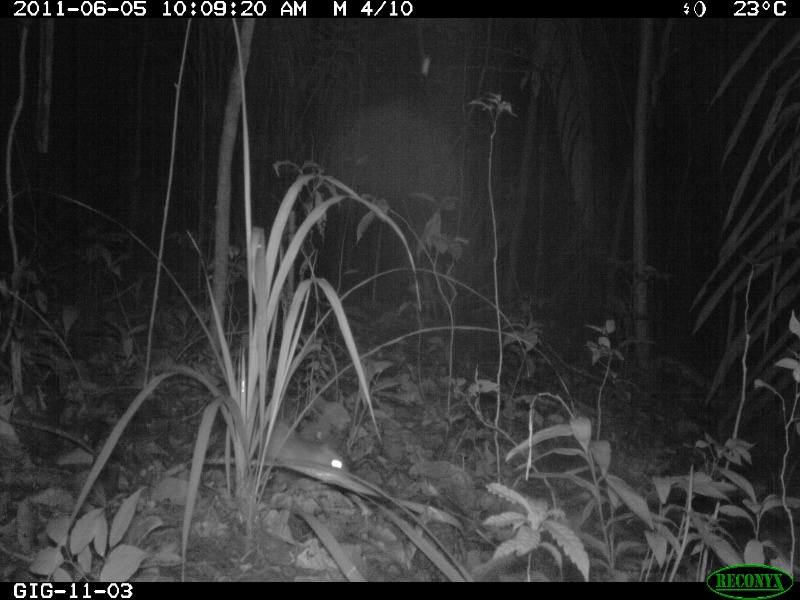opossum: (221, 397, 359, 492)
